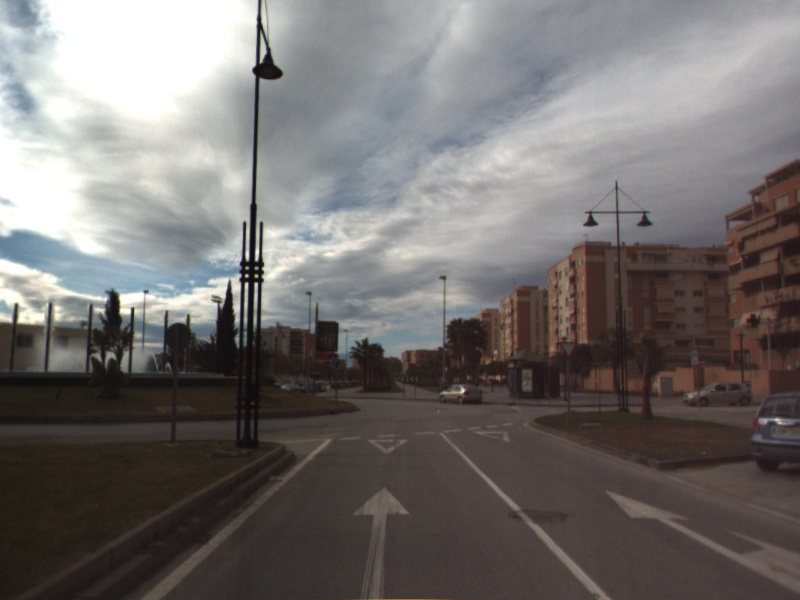STRAIGHT: (350, 484, 412, 600)
STRAIGHT_RIGHT: (602, 487, 800, 596)
